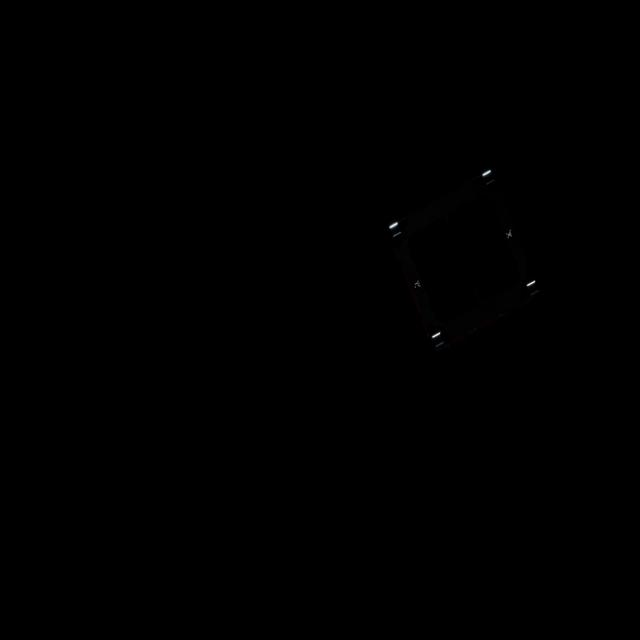medium_debris: (379, 162, 542, 356)
